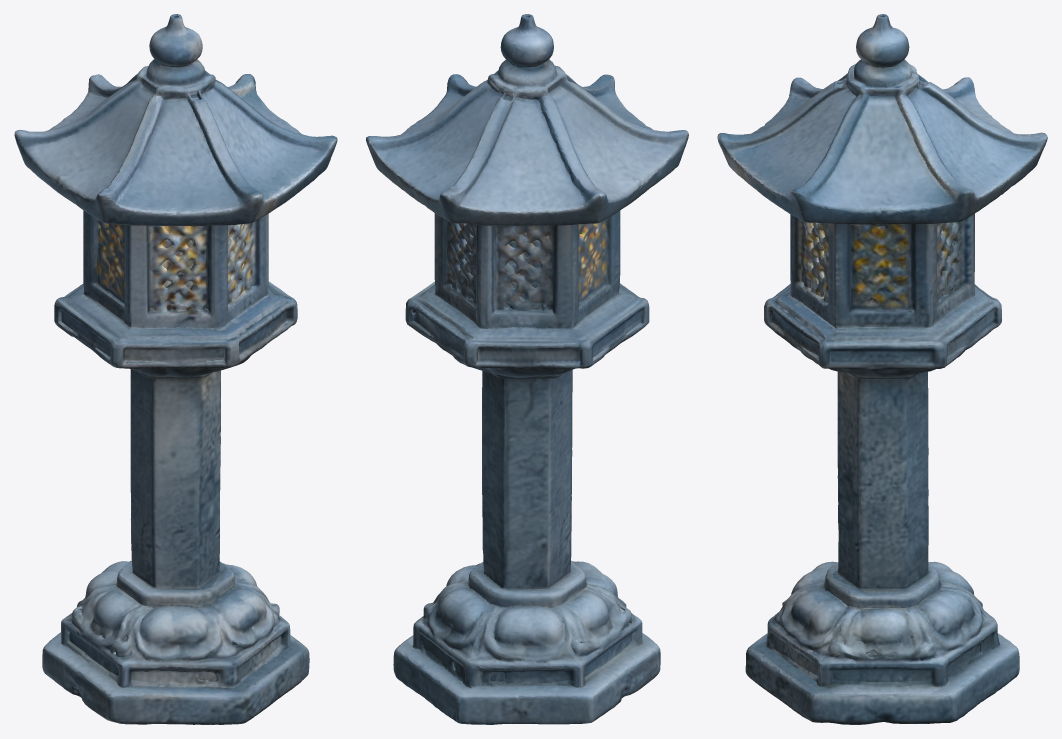
The model's file is stone-lamp-tall.glb.
3 views of the same model, side by side, from view 1: azimuth 30°, elevation 25°; view 2: azimuth 150°, elevation 25°; view 3: azimuth 270°, elevation 25° (orthographic).
Parts seen in each view (by area): view 1: geometry_0; view 2: geometry_0; view 3: geometry_0.
Boxes of the visible parts, x1,y1,x2,y2 form: geometry_0: (14,14,337,724); geometry_0: (366,14,688,724); geometry_0: (717,14,1047,724).
Size of the model in its own units: 0.6801 by 1.8 by 0.8142.
Materials: 1 (1 with a texture image).
